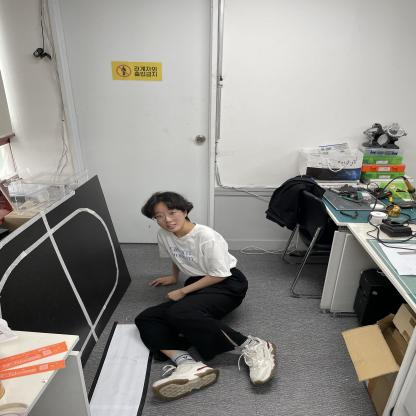fall: (143, 188, 274, 398)
